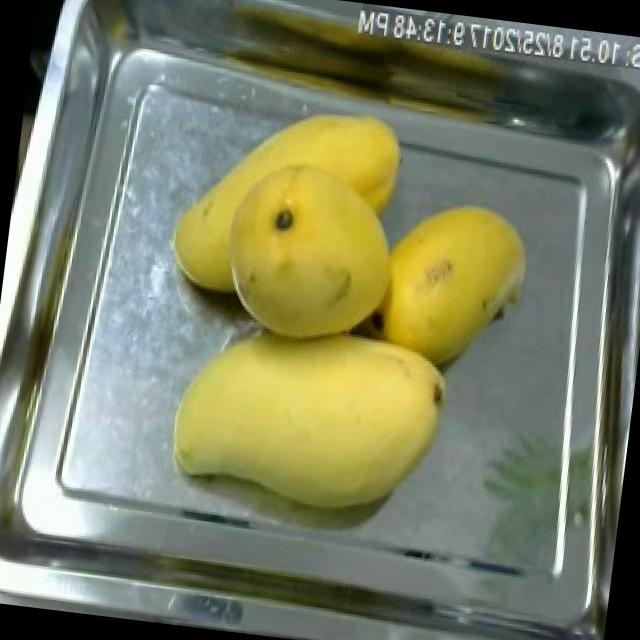fruit: (143, 70, 430, 369), (144, 292, 464, 540), (359, 182, 544, 382)
